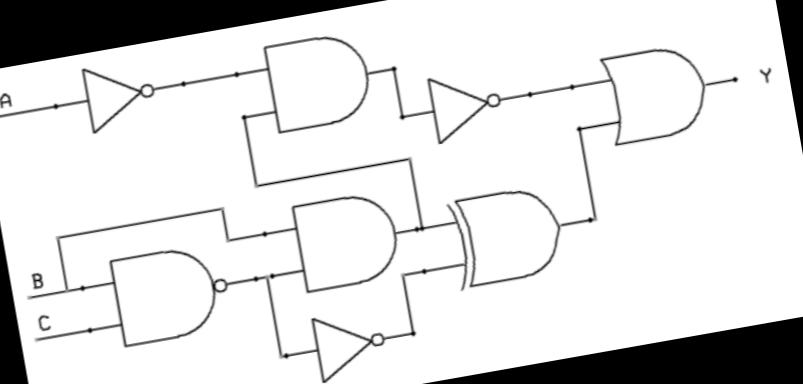and: (256, 20, 386, 146), (284, 180, 406, 296)
nand: (100, 234, 239, 362)
not: (68, 50, 170, 143), (416, 60, 512, 148), (302, 299, 391, 384)
or: (442, 176, 572, 296), (592, 32, 718, 154)
